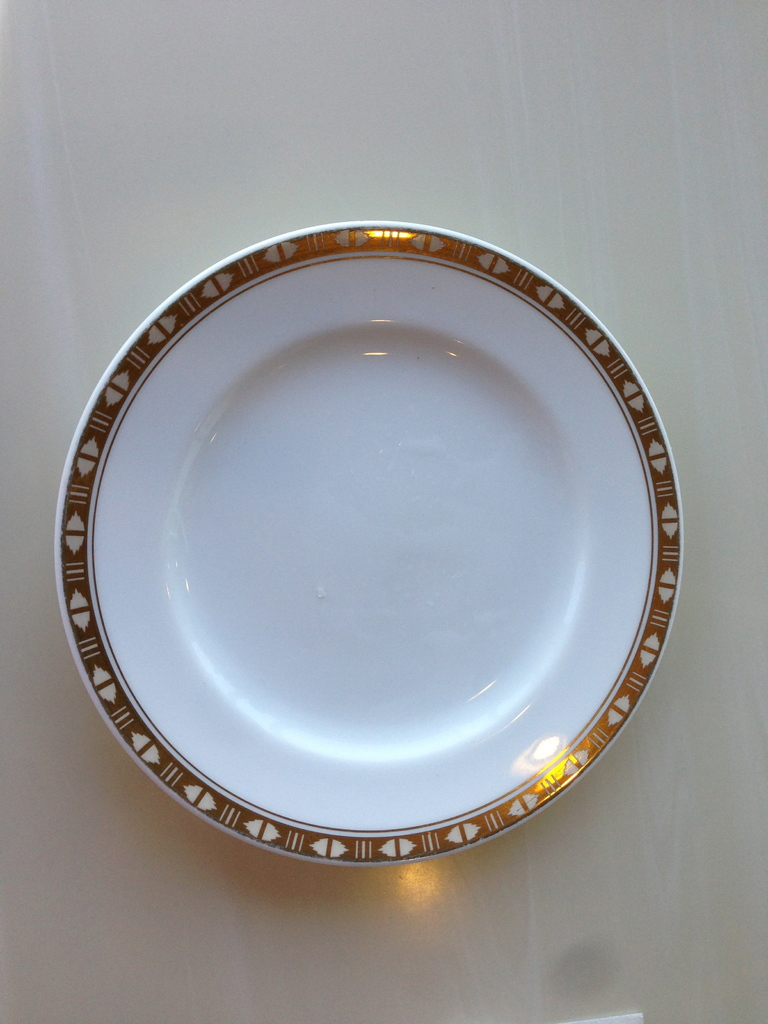plate: (53, 220, 683, 866)
